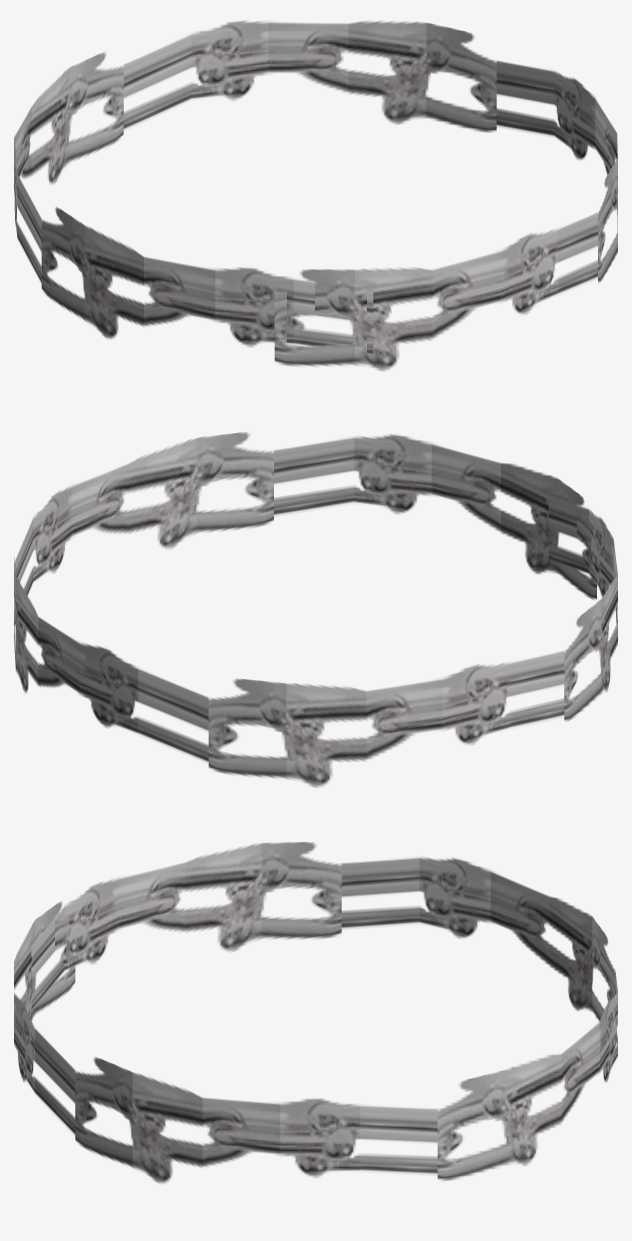
File: 2d3bracelert.glb
The picture shows the model from 3 angles, top to bottom: view 1: azimuth 30°, elevation 25°; view 2: azimuth 150°, elevation 25°; view 3: azimuth 270°, elevation 25°; orthographic projection.
Parts seen in each view (by area): view 1: 5f3acd_1754d4b4d8b34b088107173a283286f9_mv2.002; view 2: 5f3acd_1754d4b4d8b34b088107173a283286f9_mv2.002; view 3: 5f3acd_1754d4b4d8b34b088107173a283286f9_mv2.002.
Boxes of the visible parts, left/top/right/bottom form: 5f3acd_1754d4b4d8b34b088107173a283286f9_mv2.002: left=14, top=20, right=617, bottom=371; 5f3acd_1754d4b4d8b34b088107173a283286f9_mv2.002: left=14, top=432, right=617, bottom=787; 5f3acd_1754d4b4d8b34b088107173a283286f9_mv2.002: left=14, top=842, right=617, bottom=1183.
Size of the model in its own units: 1.27 by 0.301 by 1.27.
1 material, 1 textured.
